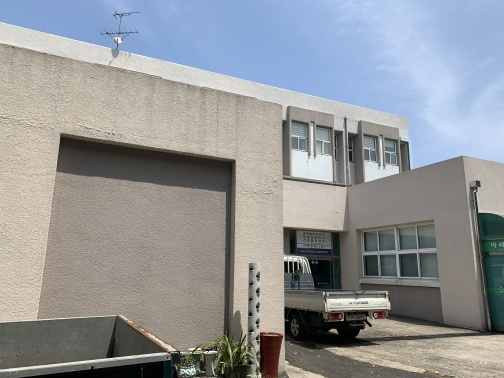Ara Hall: (352, 149, 504, 333)
